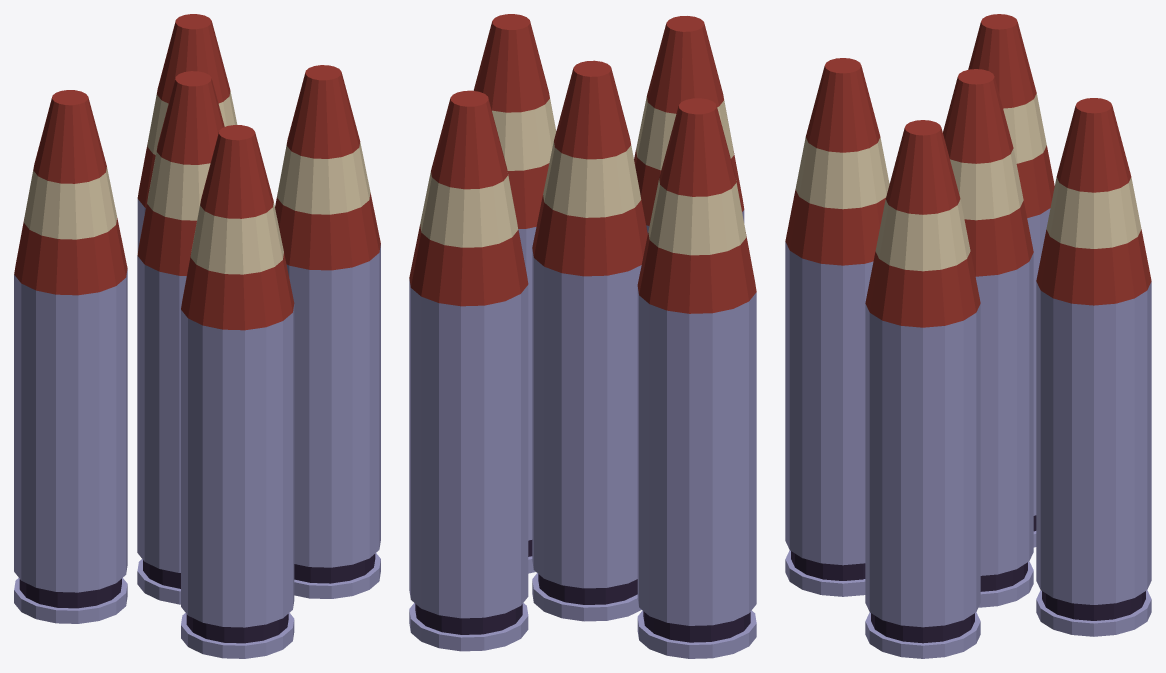
The model's file is riffleAmmo.fbx.
3 views of the same model, side by side, from view 1: azimuth 30°, elevation 25°; view 2: azimuth 150°, elevation 25°; view 3: azimuth 270°, elevation 25° (orthographic). The views are drawn at different scales.
Parts seen in each view (by area): view 1: Cylinder.004, Cylinder.003, Cylinder.002, Cylinder, Cylinder.001; view 2: Cylinder.003, Cylinder.001, Cylinder, Cylinder.002, Cylinder.004; view 3: Cylinder.001, Cylinder.002, Cylinder.004, Cylinder, Cylinder.003.
Part boxes in pixels (x1=…): Cylinder.004: x1=181, y1=125, x2=294, y2=658; Cylinder.003: x1=14, y1=90, x2=127, y2=623; Cylinder.002: x1=275, y1=65, x2=380, y2=598; Cylinder: x1=137, y1=71, x2=224, y2=604; Cylinder.001: x1=137, y1=14, x2=237, y2=252; Cylinder.003: x1=637, y1=98, x2=756, y2=658; Cylinder.001: x1=409, y1=90, x2=528, y2=651; Cylinder: x1=532, y1=60, x2=647, y2=621; Cylinder.002: x1=473, y1=14, x2=556, y2=573; Cylinder.004: x1=634, y1=16, x2=744, y2=233; Cylinder.001: x1=1036, y1=98, x2=1151, y2=636; Cylinder.002: x1=865, y1=120, x2=980, y2=658; Cylinder.004: x1=785, y1=58, x2=889, y2=596; Cylinder: x1=943, y1=69, x2=1033, y2=607; Cylinder.003: x1=968, y1=14, x2=1054, y2=547.
Bounding box in the file's own units: 67.96 × 104 × 67.99.
